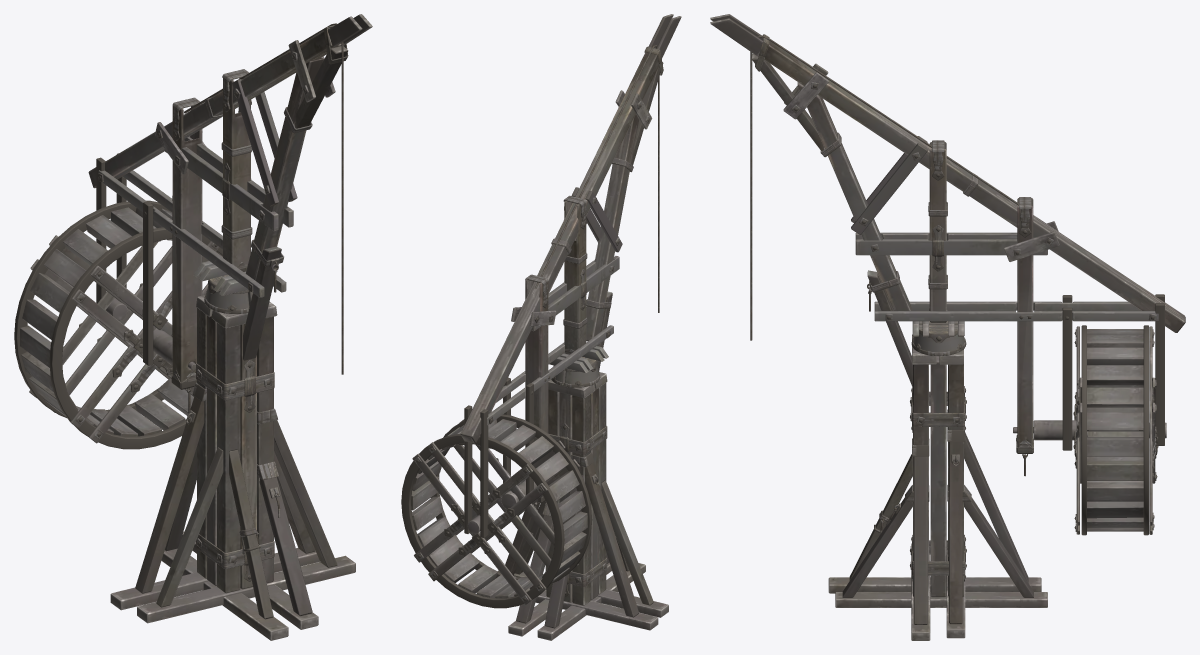
The model's file is build_crane_01.glb.
3 renders of one model, left to right at view 1: azimuth 30°, elevation 25°; view 2: azimuth 150°, elevation 25°; view 3: azimuth 270°, elevation 25°, orthographic. The views are drawn at different scales.
Visible parts, largest first — view 1: build_crane_01, build_crane_01_wheel; view 2: build_crane_01, build_crane_01_wheel; view 3: build_crane_01, build_crane_01_wheel.
Boxes of the visible parts, x1,y1,x2,y2 form: build_crane_01: (88, 14, 372, 640); build_crane_01_wheel: (14, 200, 222, 449); build_crane_01: (460, 14, 681, 640); build_crane_01_wheel: (401, 414, 592, 608); build_crane_01: (710, 14, 1185, 640); build_crane_01_wheel: (1013, 325, 1166, 535).
Size of the model in its own units: 6.36 by 18.59 by 13.76.
Materials: 1 (1 with a texture image).
